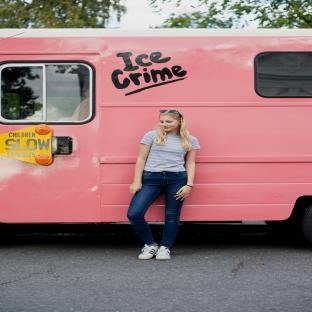Human: (127, 109, 200, 260)
